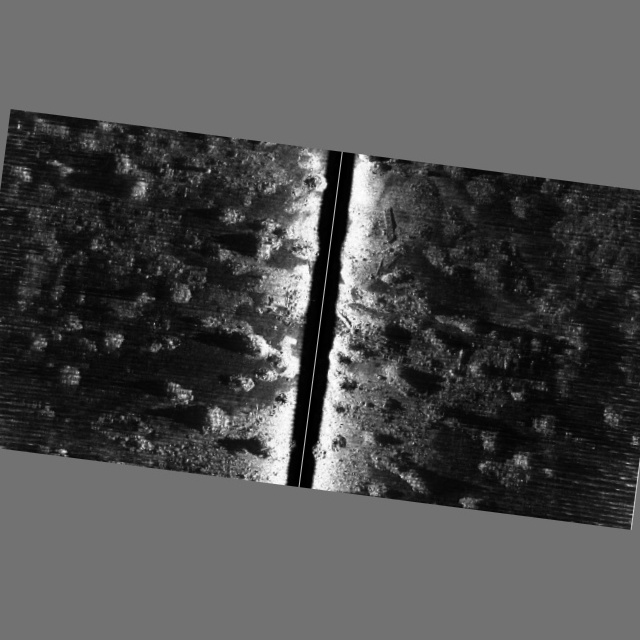Shipwreck: (263, 193, 404, 356)
